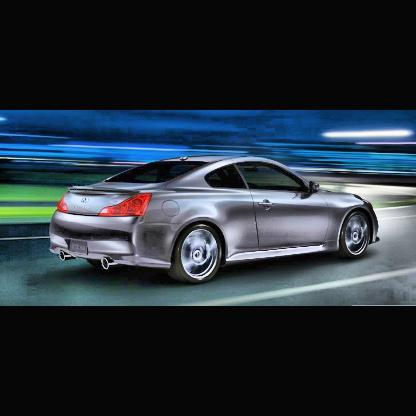Infiniti G Coupe IPL 2012: (49, 156, 383, 289)
